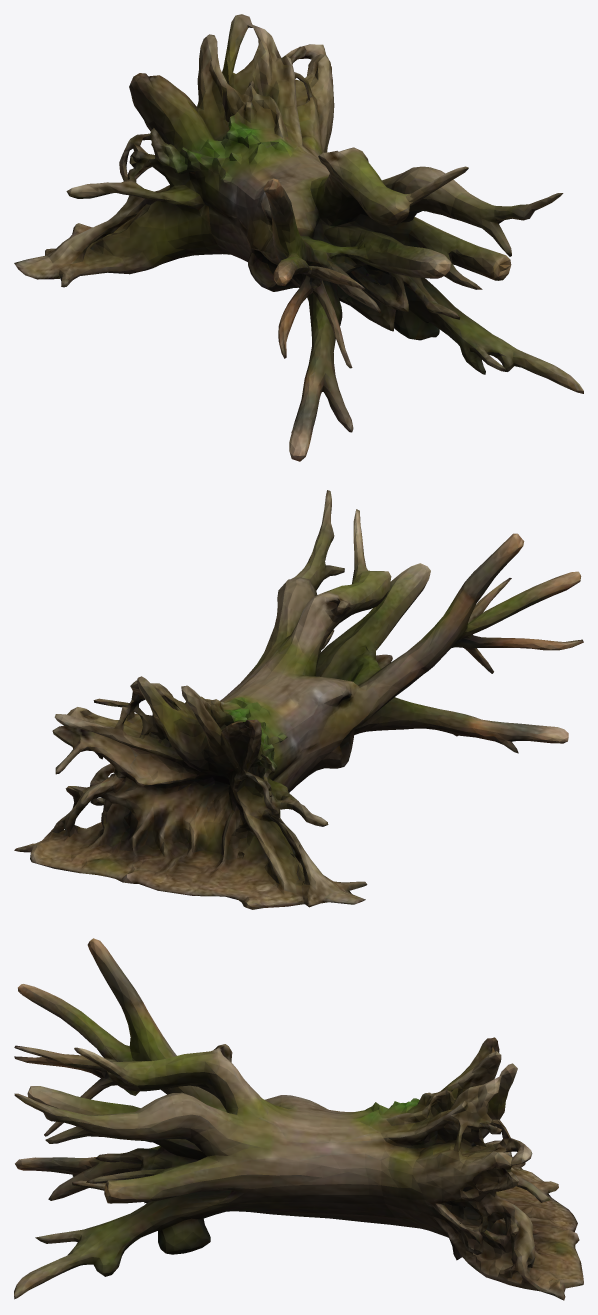
File: tronc-deracine.glb
3 views of the same model, one above another, from view 1: azimuth 30°, elevation 25°; view 2: azimuth 150°, elevation 25°; view 3: azimuth 270°, elevation 25° (orthographic). The views are drawn at different scales.
Visible parts, largest first — view 1: world; view 2: world; view 3: world.
Part boxes in pixels (box(x1,y1,x2,y2)): world: box(14, 14, 583, 461); world: box(14, 490, 583, 909); world: box(14, 938, 583, 1300).
Size of the model in its own units: 0.657 by 0.4584 by 0.9984.
Materials: 1 (1 with a texture image).
